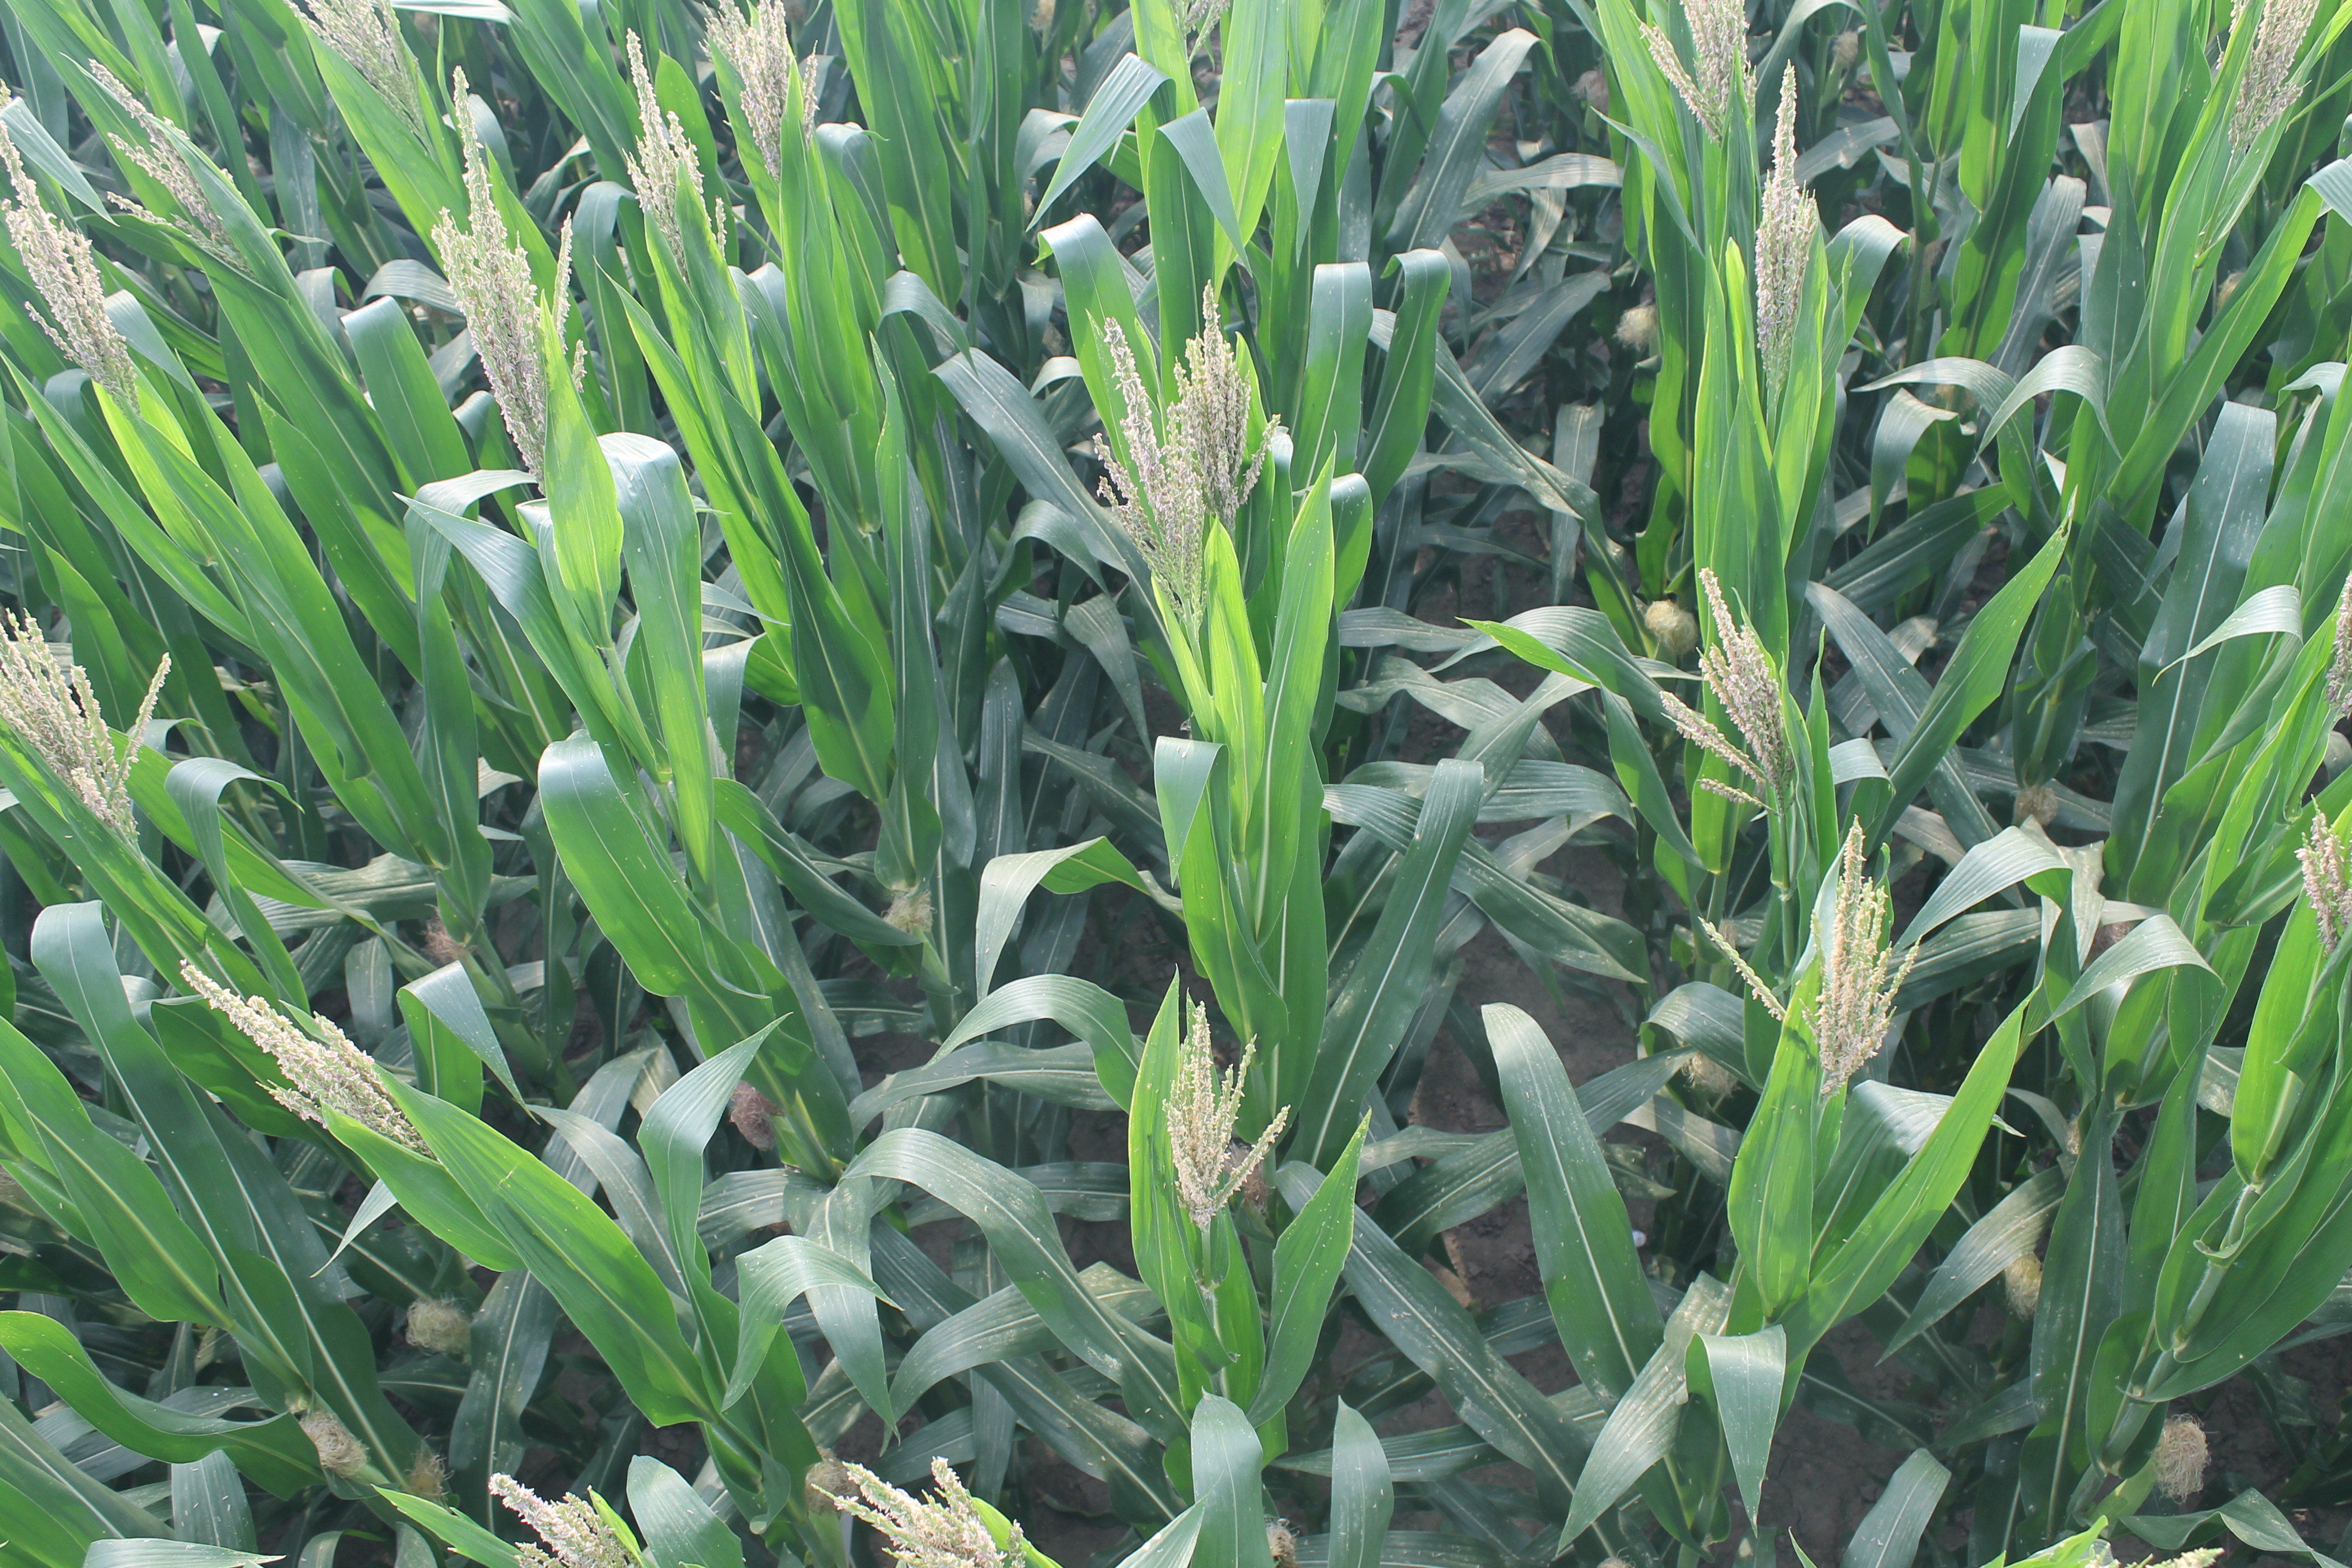Maize: (1069, 303, 1279, 630), (194, 950, 465, 1169), (1685, 840, 1914, 1081), (441, 68, 556, 465), (1144, 994, 1323, 1221), (0, 625, 187, 840), (100, 56, 269, 275), (1689, 574, 1811, 796), (819, 1456, 1045, 1568), (1757, 65, 1832, 399), (0, 105, 84, 402), (2201, 0, 2352, 161), (700, 0, 826, 161), (488, 1459, 672, 1568), (612, 33, 691, 252), (297, 0, 434, 112), (1641, 0, 1748, 133), (2299, 800, 2352, 962)
